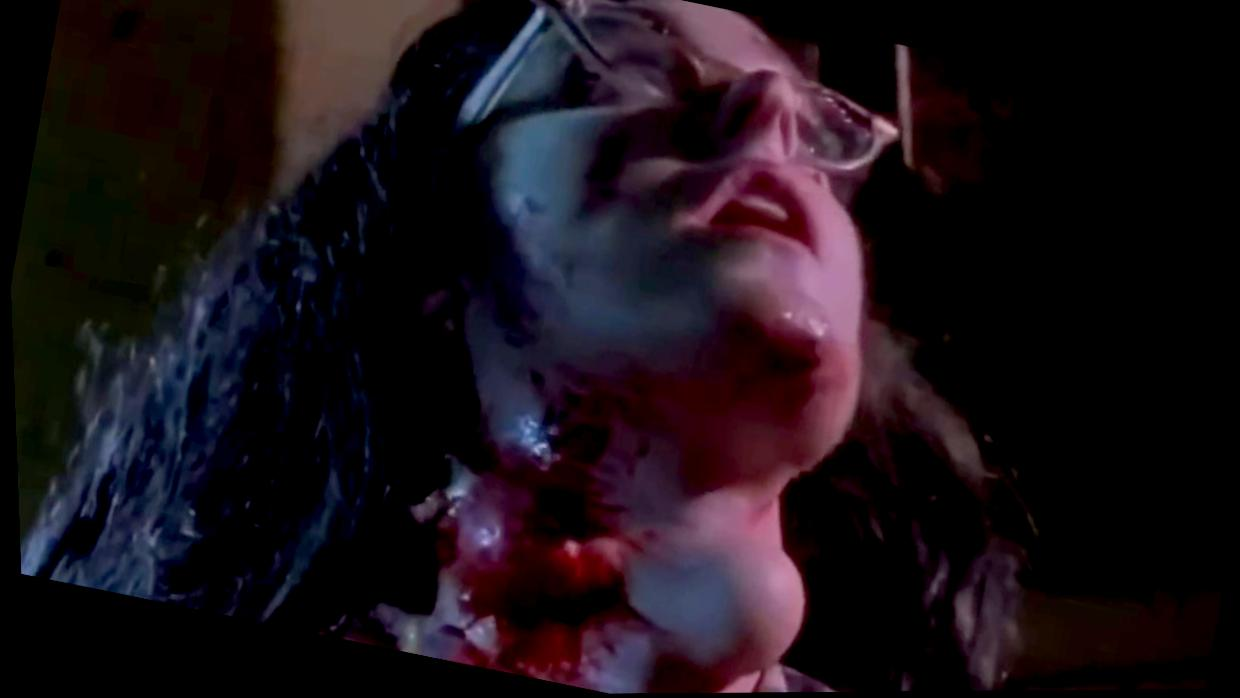Fire: (412, 373, 646, 695), (725, 317, 841, 387)
